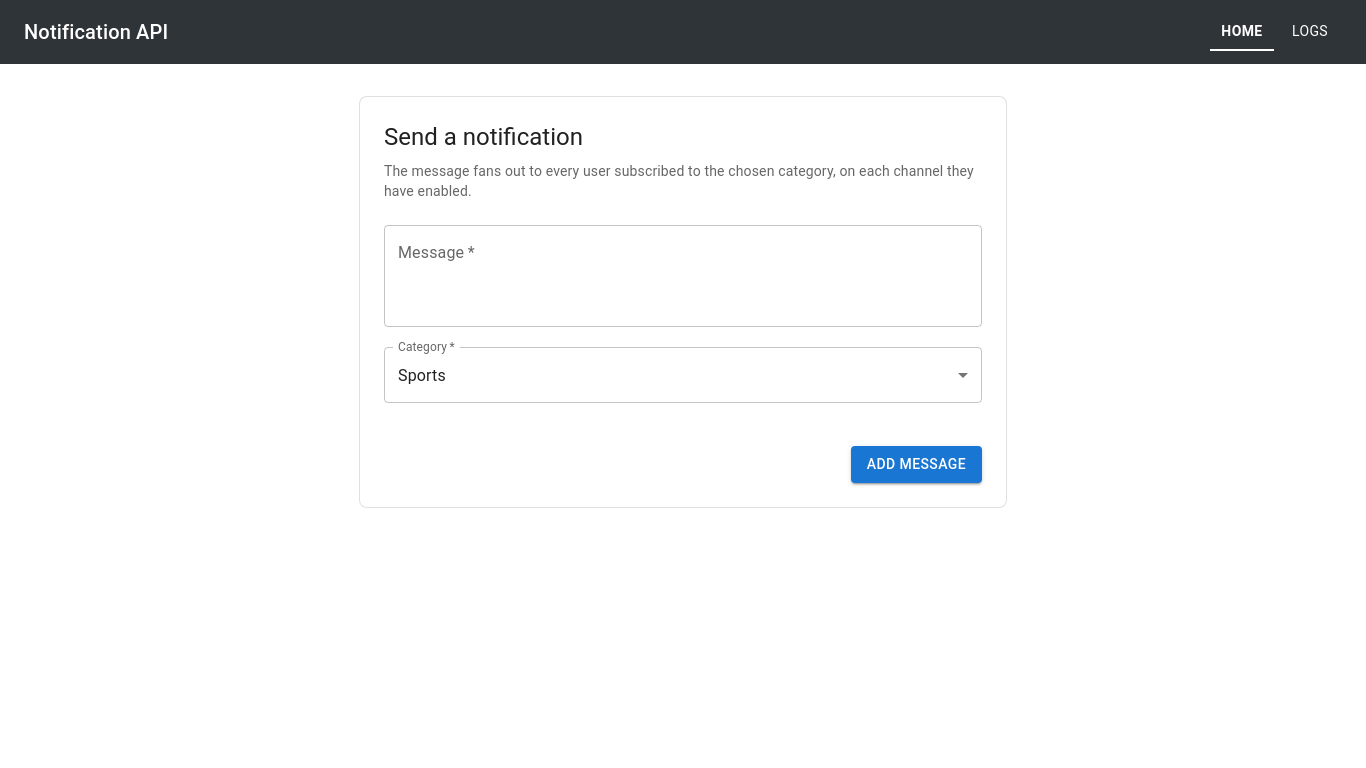
Test: AddMessage › surfaces an API failure instead of failing silently
The width and height of the screenshot is (1366, 768).
Expected: the dropdown with id "categorySelection" reads "Sports", [398, 366, 446, 385]
Step 1. Type "Hello" into the text box labelled "Message *" → x=683, y=276, box [398, 242, 968, 311]
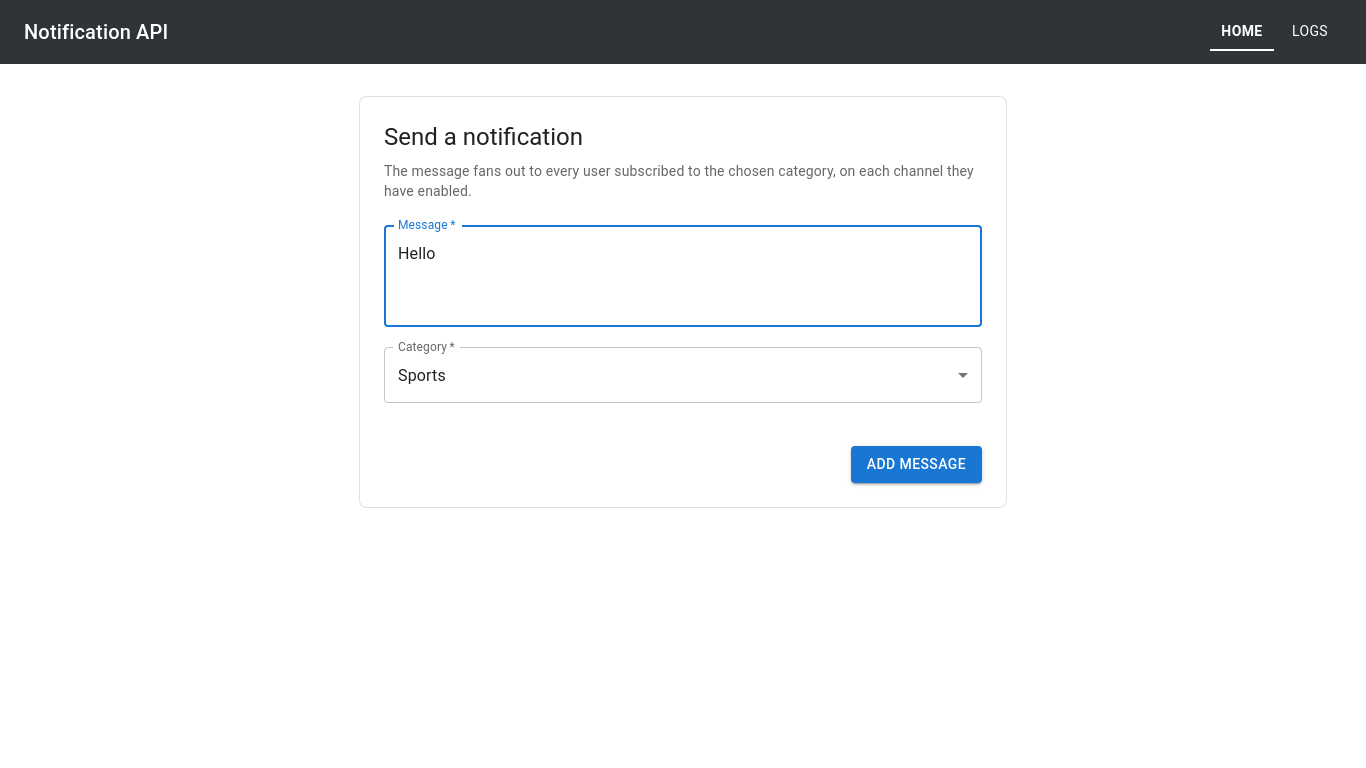
Step 2. Click the button "Add message" → x=916, y=465, box [851, 446, 982, 483]
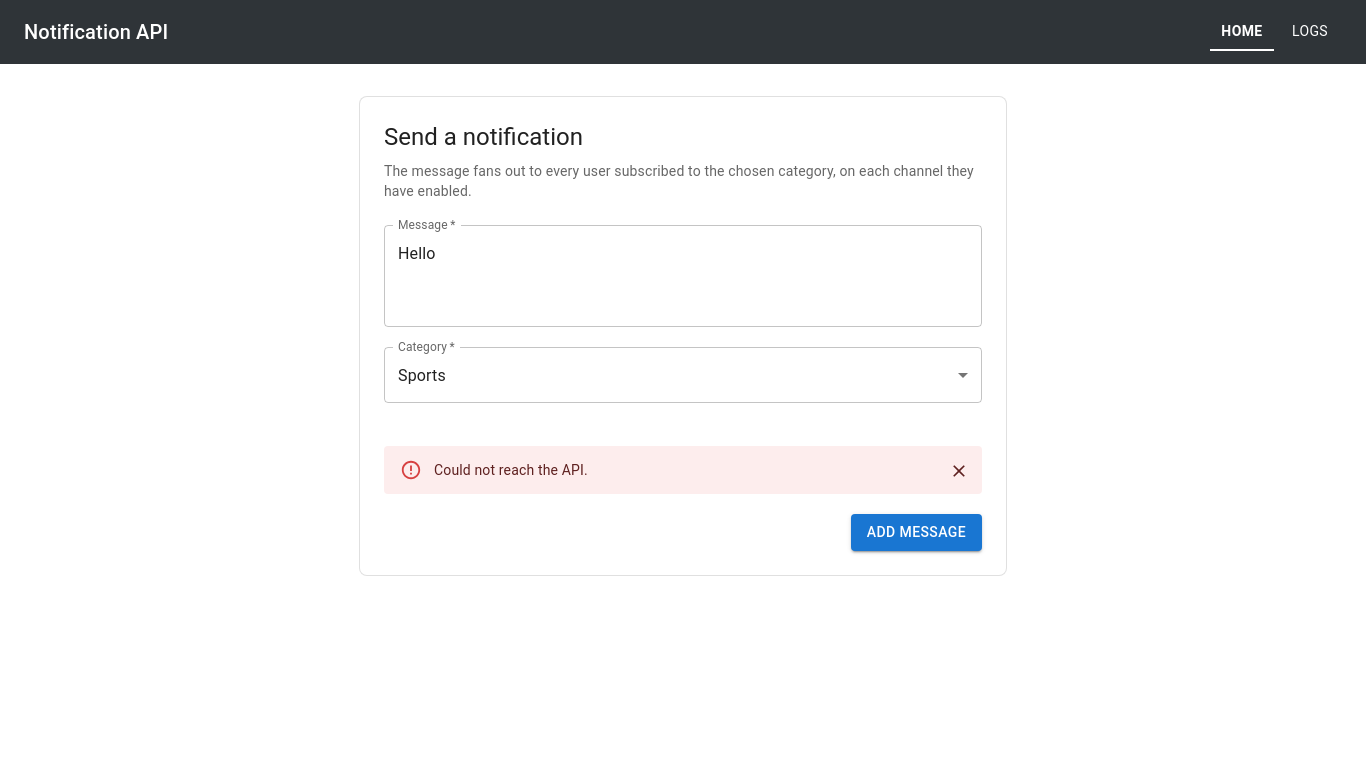
Result: the text "Could not reach the API." is shown at [434, 462, 588, 478]
